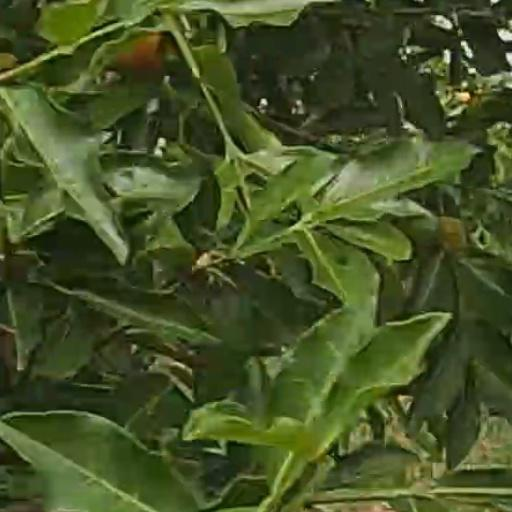acerola: (116, 37, 168, 79)
